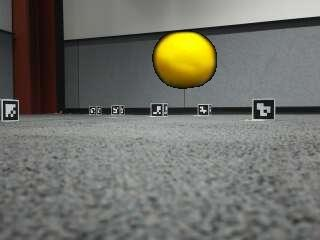lemon: (155, 32, 217, 88)
